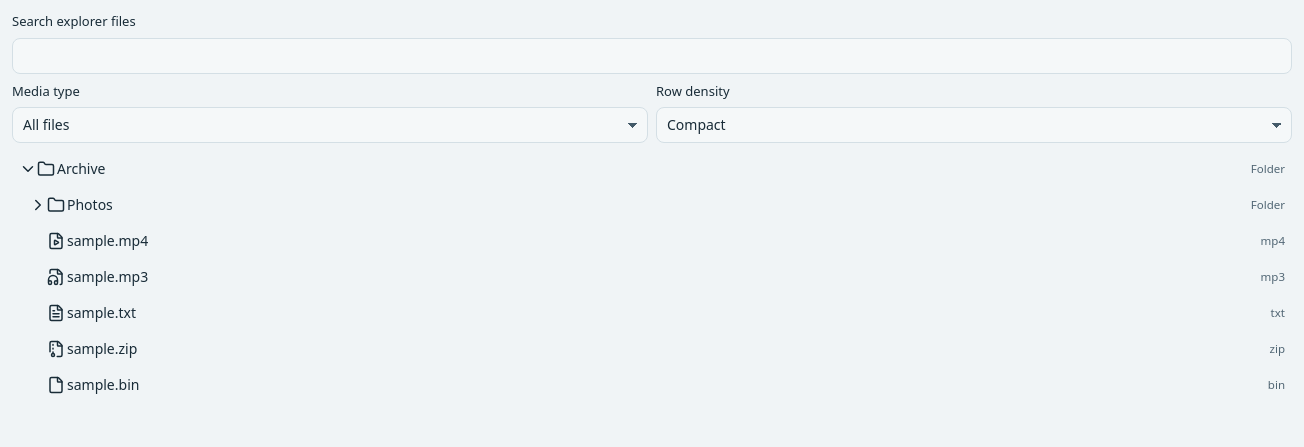
Scenario: filters media while preserving folder expansion, order and keyboard selection
The image size is (1304, 447).
Click the list item "Photos Folder".
click(90, 205)  # box [12,187,1292,223]
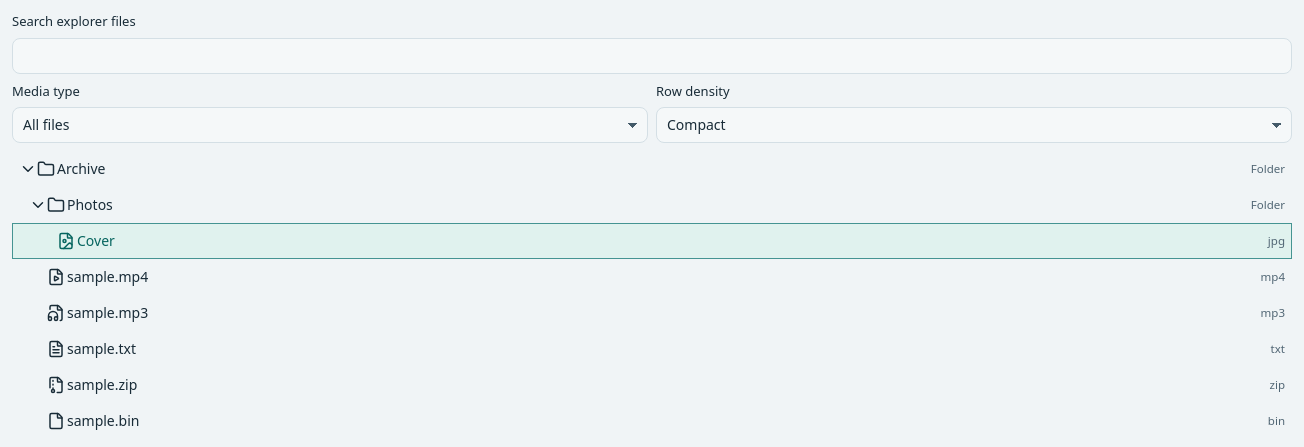
Select "Images" in the dropdown labelled "Media type" at (330, 125), box [12,107,648,143]
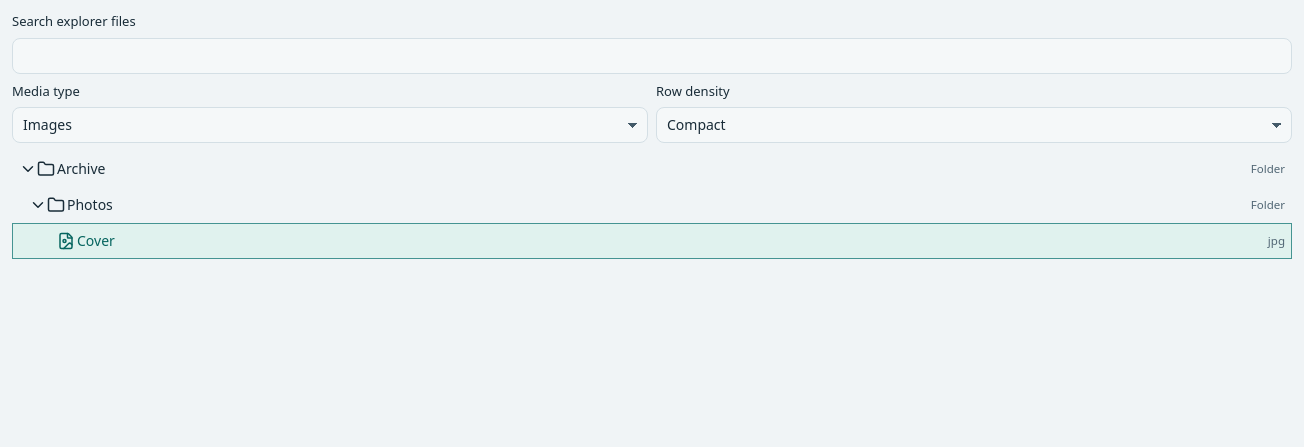
Press End in the element showing "Archive Folder Photos Folder Cover jpg", box [12,151,1292,259]
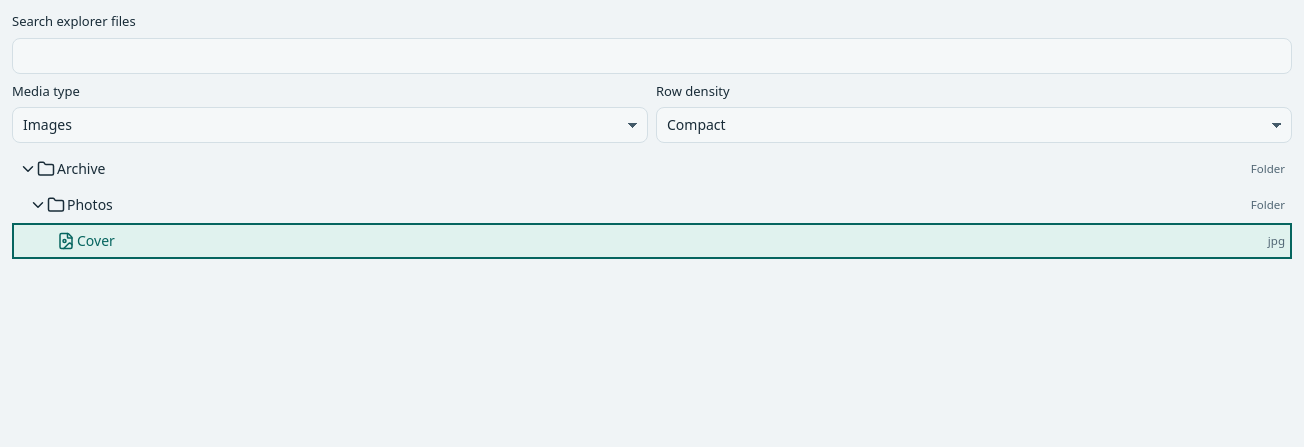
Press Enter in the element showing "Archive Folder Photos Folder Cover jpg", box [12,151,1292,259]
Select "Videos" in the dropdown labelled "Media type" at (330, 125), box [12,107,648,143]
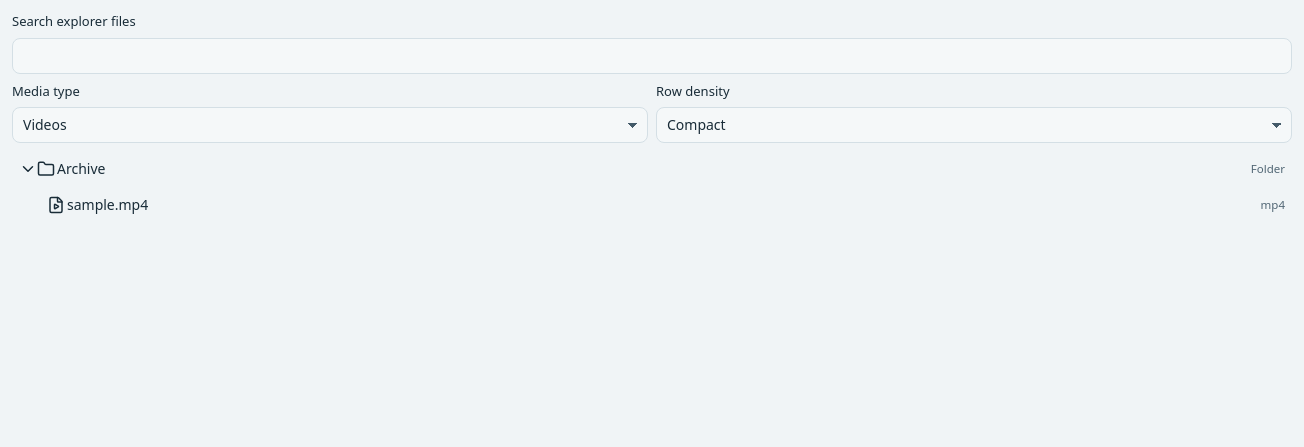
Now the list item "Photos Folder" is gone
Now the list item "sample.mp4 mp4" is shown, box [12,187,1292,223]
Select "All files" in the dropdown labelled "Media type" at (330, 125), box [12,107,648,143]
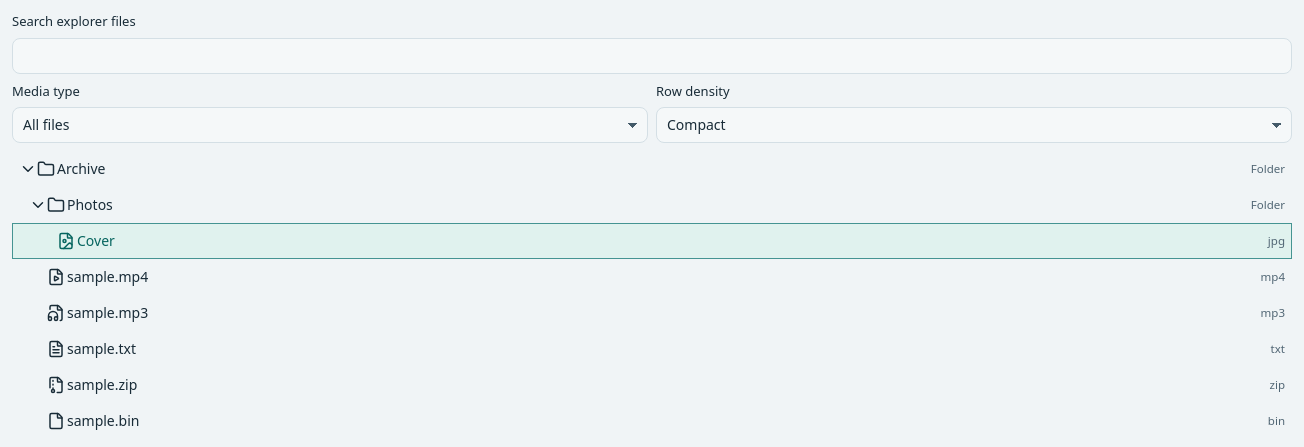
Now the list item "Cover jpg" is shown, box [12,223,1292,259]
